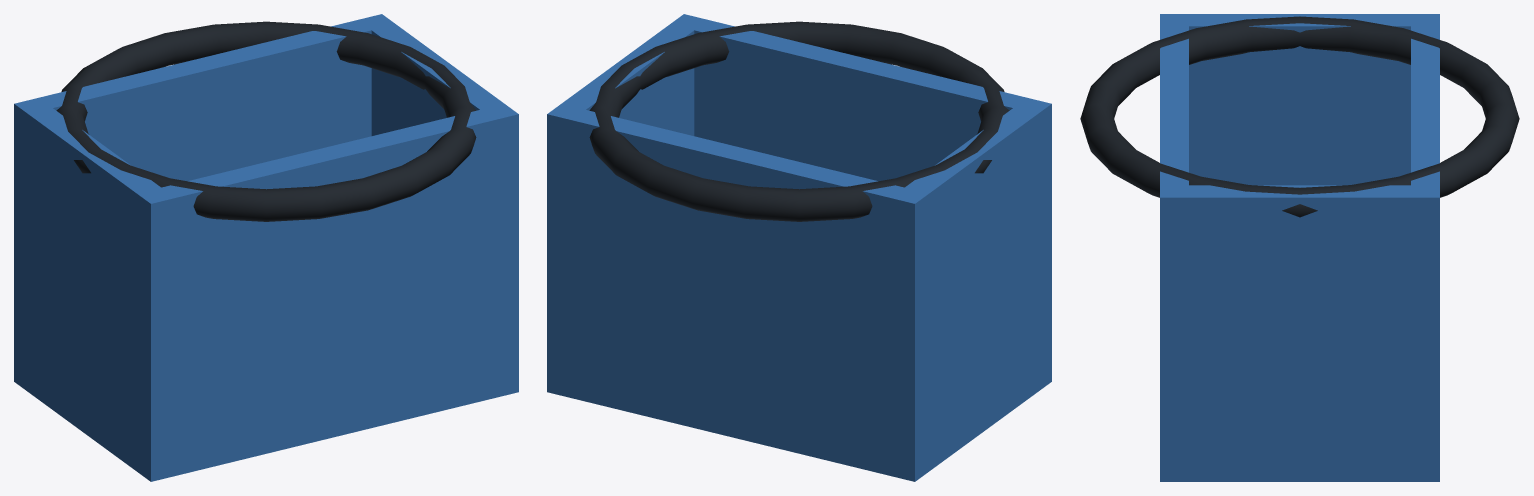
The model's file is shopping-basket.glb.
The picture shows the model from 3 angles, left to right: view 1: azimuth 30°, elevation 25°; view 2: azimuth 150°, elevation 25°; view 3: azimuth 270°, elevation 25°; orthographic projection. The views are drawn at different scales.
Bounding box in the file's own units: 0.91 × 0.6533 × 0.91.
